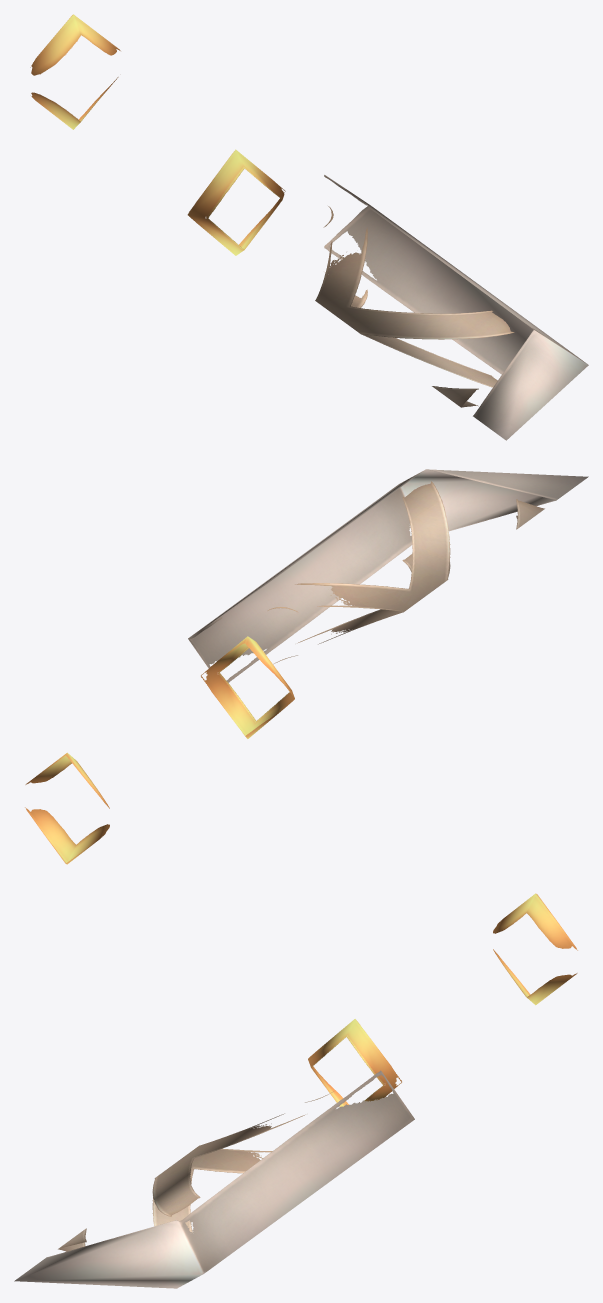
Rendered from eqp_wpn_thief_1.FBX.
3 views of the same model, one above another, from view 1: azimuth 30°, elevation 25°; view 2: azimuth 150°, elevation 25°; view 3: azimuth 330°, elevation 25° (orthographic). The views are drawn at different scales.
Parts seen in each view (by area): view 1: eqp_wpn_thief_1; view 2: eqp_wpn_thief_1; view 3: eqp_wpn_thief_1.
Boxes of the visible parts, x1,y1,x2,y2 form: eqp_wpn_thief_1: (30, 14, 588, 440); eqp_wpn_thief_1: (25, 469, 588, 864); eqp_wpn_thief_1: (14, 893, 577, 1288).
Size of the model in its own units: 0.1058 by 0.0836 by 0.5782.
